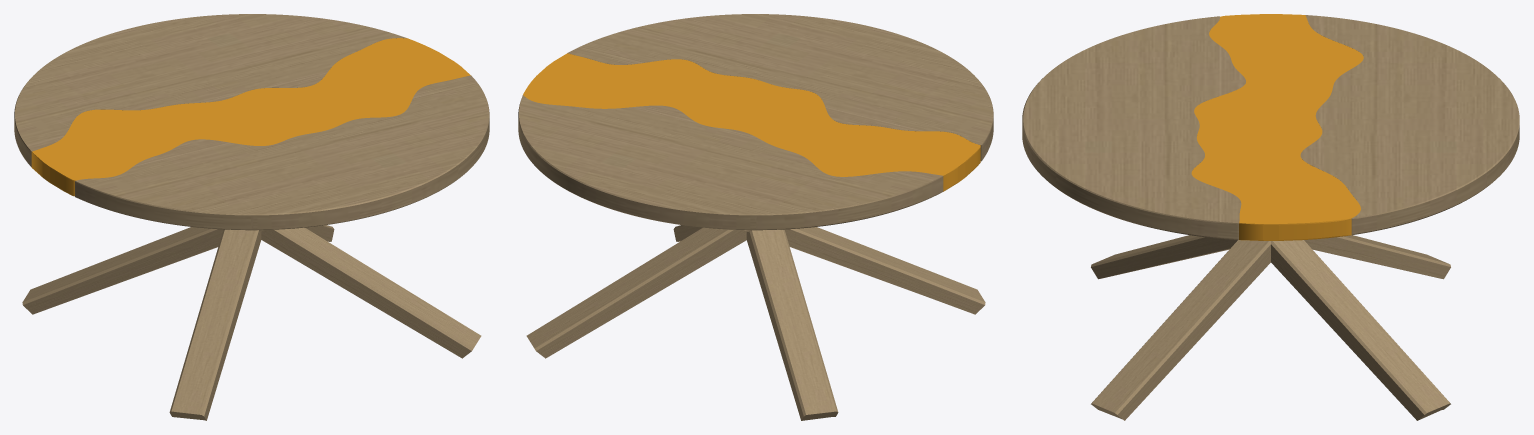
Rendered from round-ash-epoxy-amber.glb.
3 renders of one model, left to right at view 1: azimuth 30°, elevation 25°; view 2: azimuth 150°, elevation 25°; view 3: azimuth 270°, elevation 25°, orthographic. The views are drawn at different scales.
Visible parts, largest first — view 1: Wood_Round_EpoxyFar, Wood_Round_EpoxyNear, Resin_Round, Base_Round; view 2: Wood_Round_EpoxyNear, Wood_Round_EpoxyFar, Resin_Round, Base_Round; view 3: Wood_Round_EpoxyFar, Wood_Round_EpoxyNear, Resin_Round, Base_Round.
Part boxes in pixels (box(x1,y1,x2,y2)): Wood_Round_EpoxyFar: box(75, 75, 489, 230); Wood_Round_EpoxyNear: box(14, 14, 406, 166); Resin_Round: box(31, 38, 470, 196); Base_Round: box(22, 225, 481, 420); Wood_Round_EpoxyNear: box(518, 95, 943, 230); Wood_Round_EpoxyFar: box(567, 14, 993, 161); Resin_Round: box(523, 53, 980, 191); Base_Round: box(526, 225, 985, 420); Wood_Round_EpoxyFar: box(1022, 16, 1245, 239); Wood_Round_EpoxyNear: box(1300, 15, 1519, 235); Resin_Round: box(1191, 14, 1363, 240); Base_Round: box(1091, 235, 1450, 420).
Size of the model in its own units: 1.52 by 0.762 by 1.52.
Materials: 2 (1 with a texture image).
